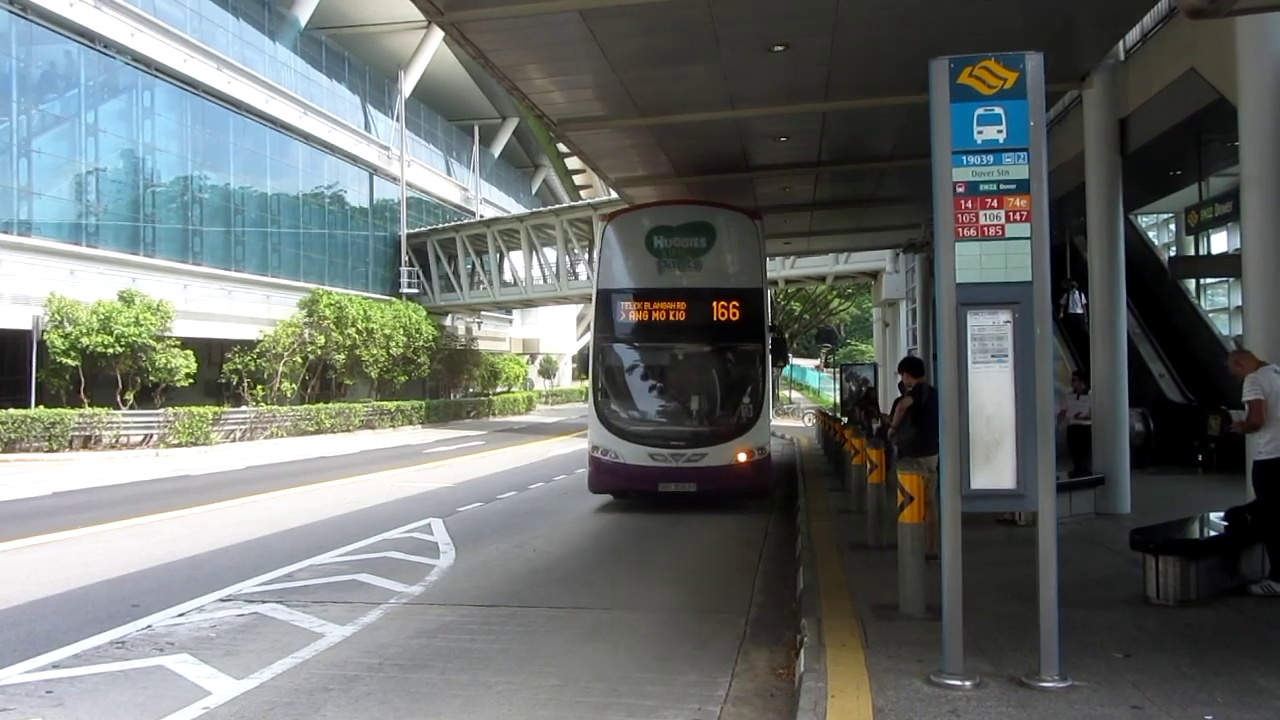bus panel: (614, 299, 743, 324)
